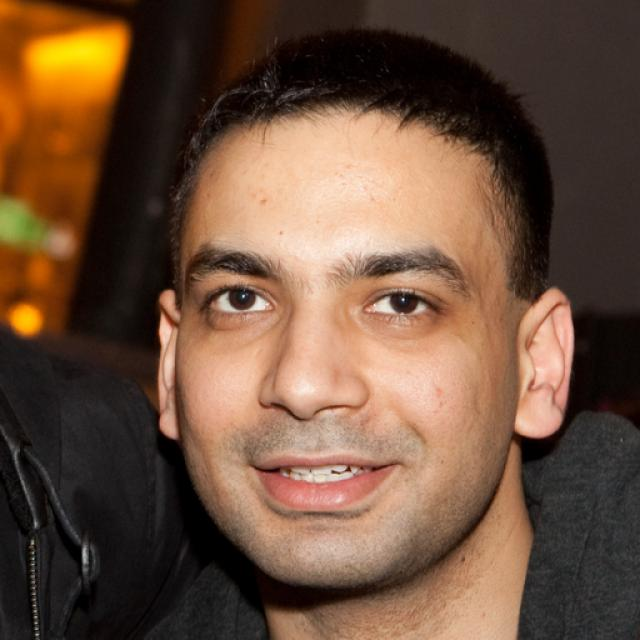Acne: (256, 193, 270, 210)
Dark Circle: (199, 309, 279, 345), (356, 311, 435, 338)
